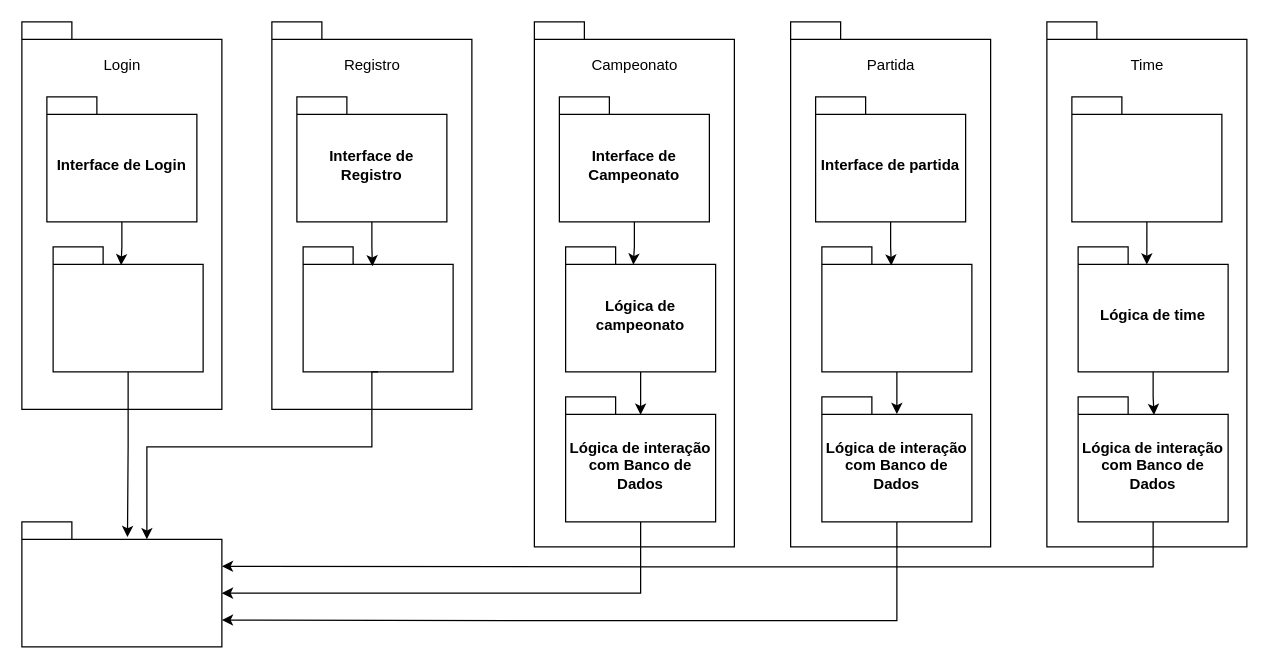
Some shapes in this 1269 by 669 pixel diagram are drawn without their labels. The centre of each missing label's shape, as x and y in pixels:
Banco de Dados: (121,584)
Interface de time: (1146,159)
Lógica de Login: (127,309)
Lógica de partida: (896,309)
Lógica de Registro: (377,309)
